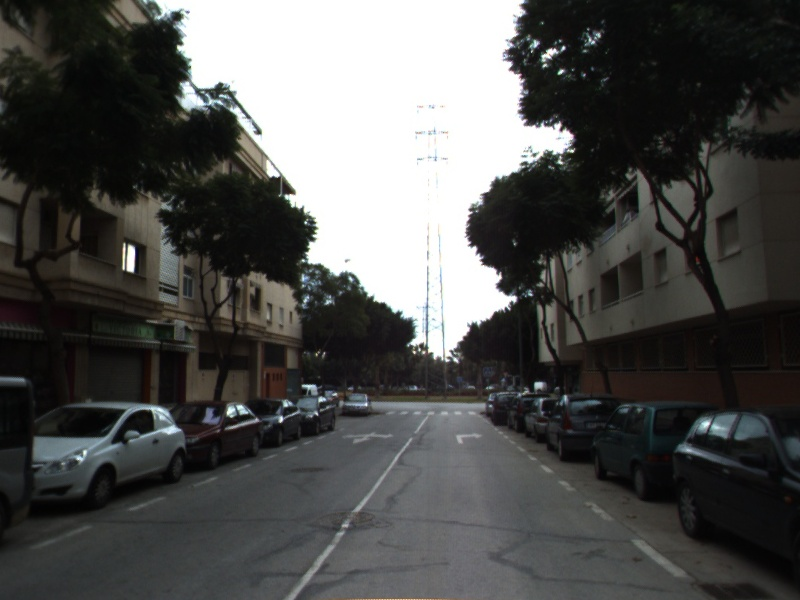RIGHT: (453, 430, 484, 446)
